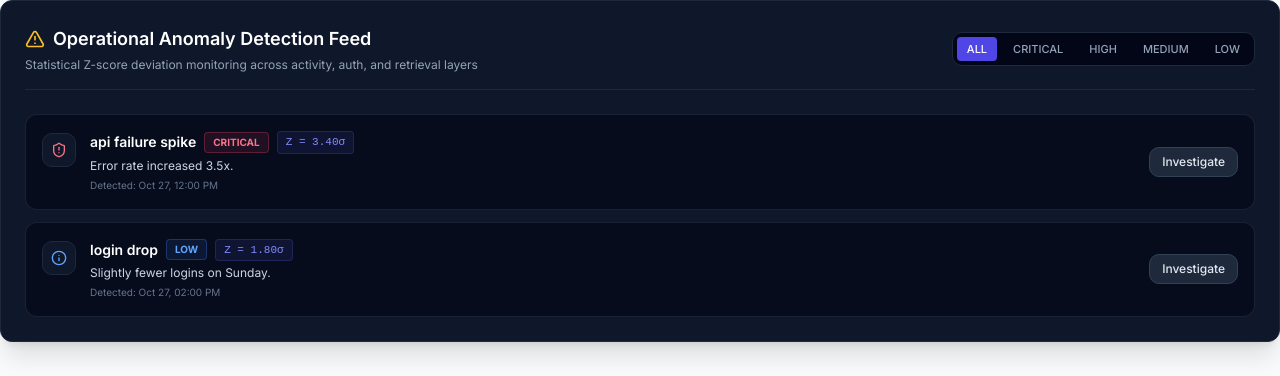
Scenario: Phase 2.5 Intelligence UI Components › AnomalyAlertFeed renders detected anomalies and filters by severity
This screenshot has width=1280, height=376.
Expected: the text "api failure spike" is shown, [90,132,196,152]
Expected: the text "Z = 3.40σ" is shown, [277,131,354,154]
Note: Filter to LOW
Step 1. Click the button "LOW" → click(1227, 49), box [1205,37,1250,61]
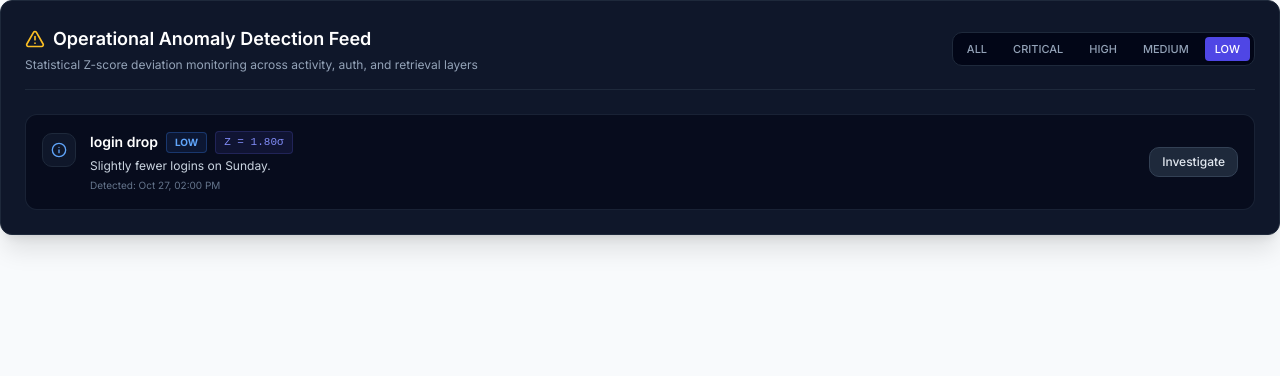
Expected: the text "login drop" is shown, [90,132,158,152]
Expected: the text "api failure spike" is gone
